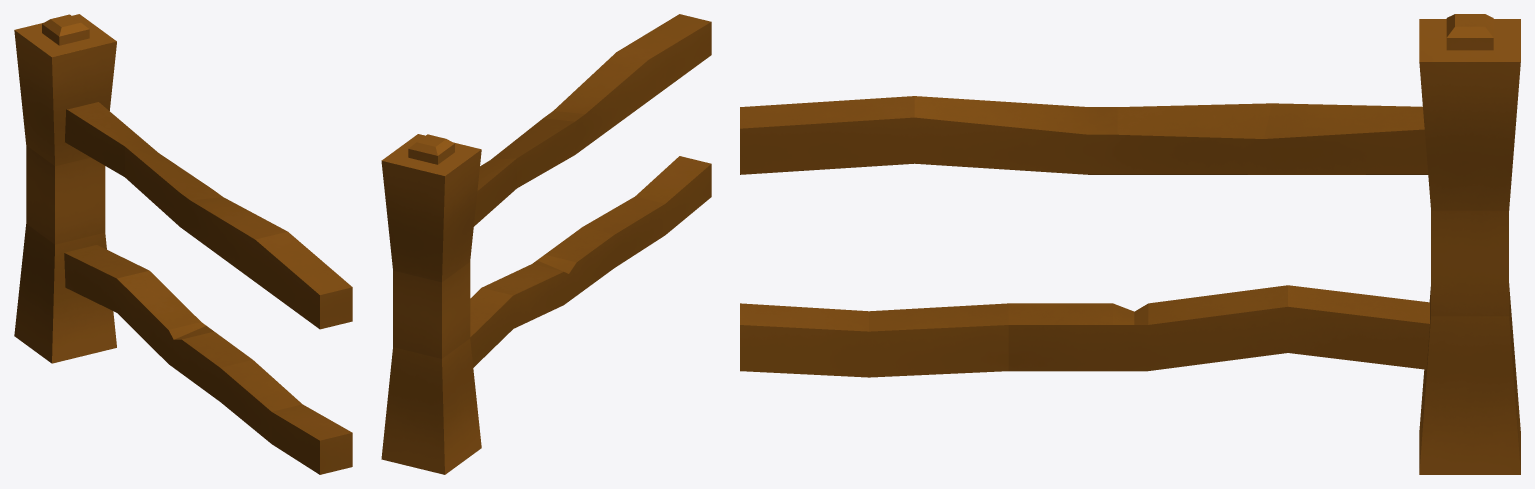
Rendered from fence right side.fbx.
3 views of the same model, side by side, from view 1: azimuth 30°, elevation 25°; view 2: azimuth 150°, elevation 25°; view 3: azimuth 270°, elevation 25° (orthographic). The views are drawn at different scales.
Visible parts, largest first — view 1: Fence_Right Side EXP; view 2: Fence_Right Side EXP; view 3: Fence_Right Side EXP.
Boxes of the visible parts, left/top/right/bottom form: Fence_Right Side EXP: left=14, top=14, right=352, bottom=474; Fence_Right Side EXP: left=381, top=14, right=711, bottom=474; Fence_Right Side EXP: left=740, top=14, right=1520, bottom=474.
Bounding box in the file's own units: 22.28 × 105 × 171.
1 material, 1 textured.
